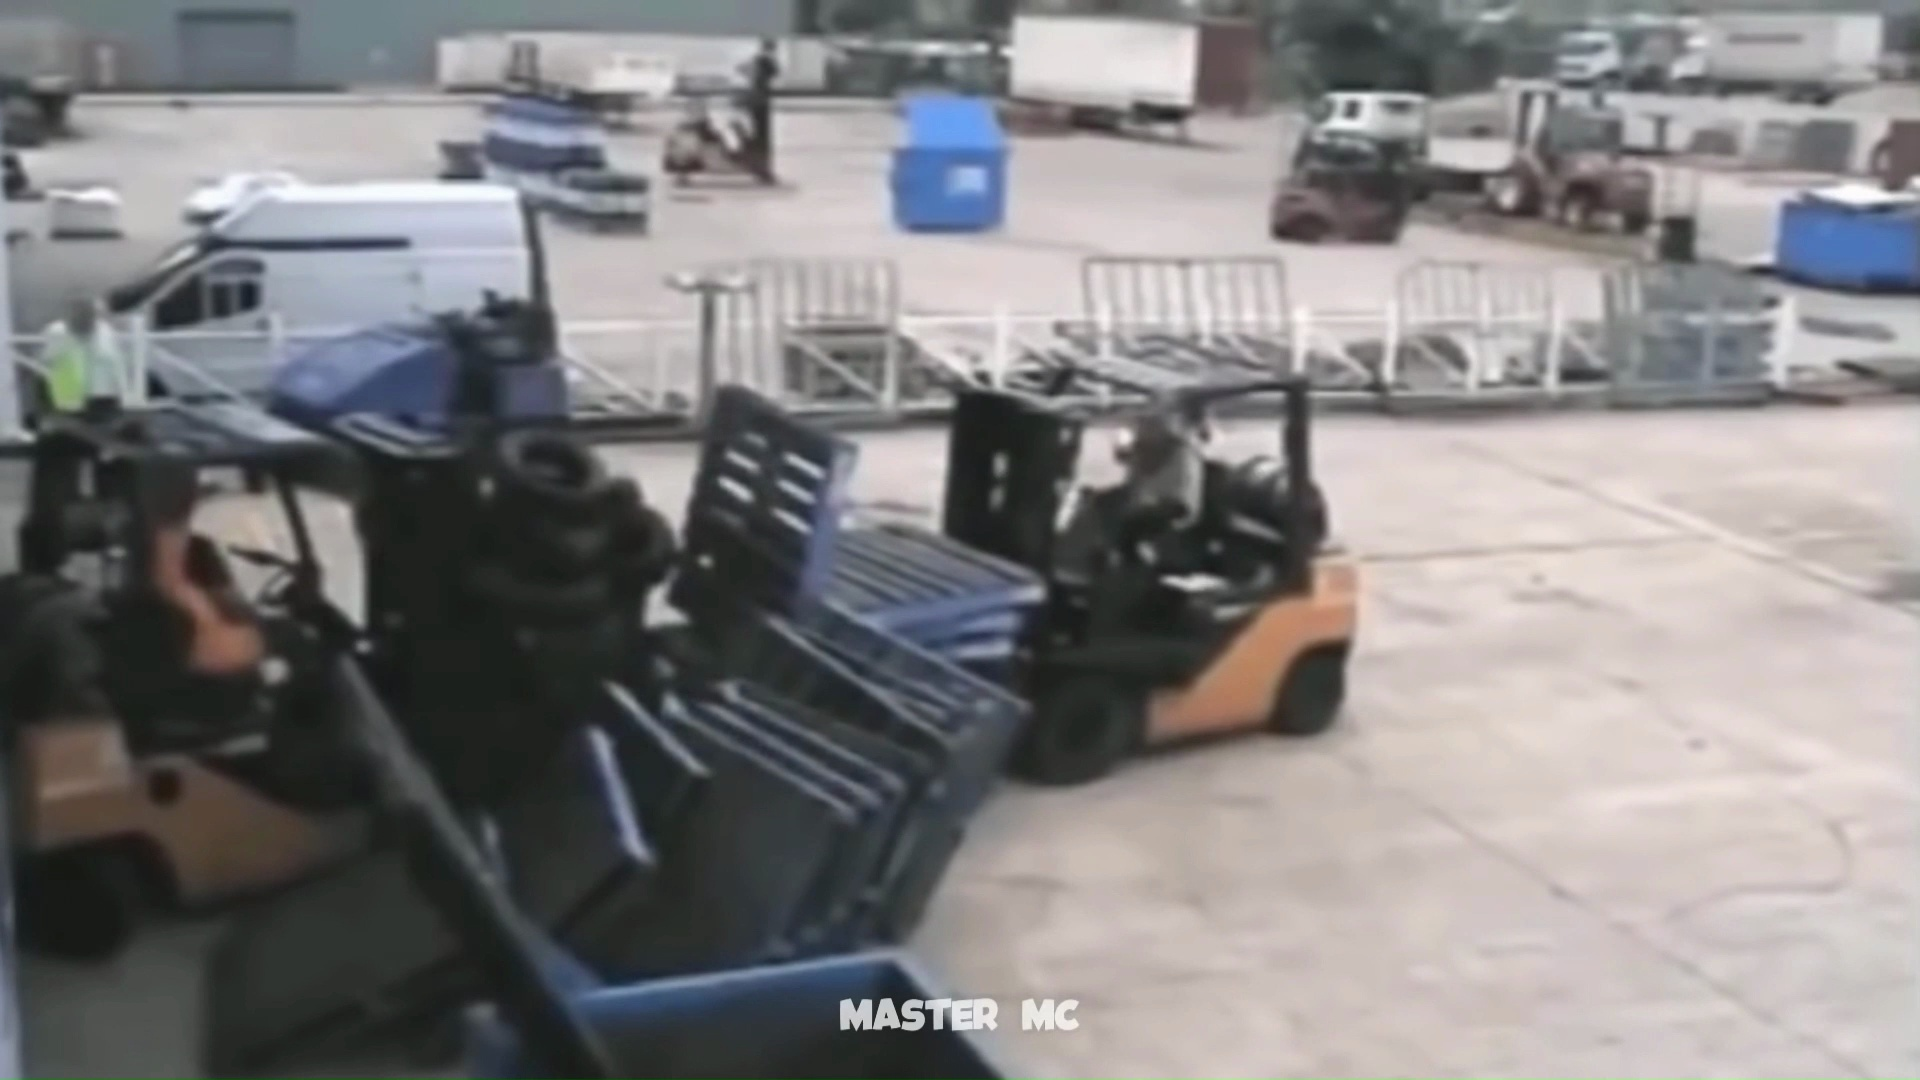forklift: (3, 388, 608, 928), (906, 365, 1352, 795)
